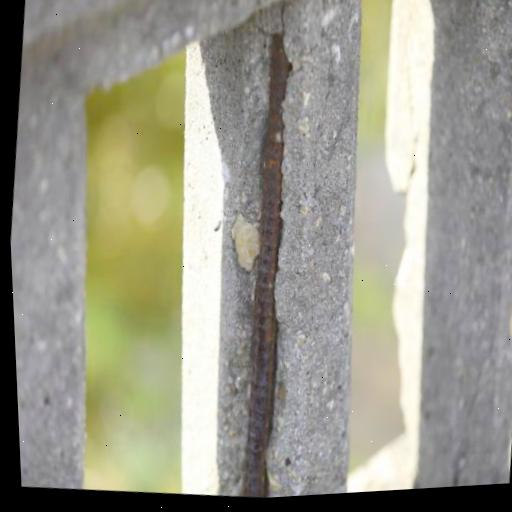exposed_rebar: (242, 34, 291, 497)
